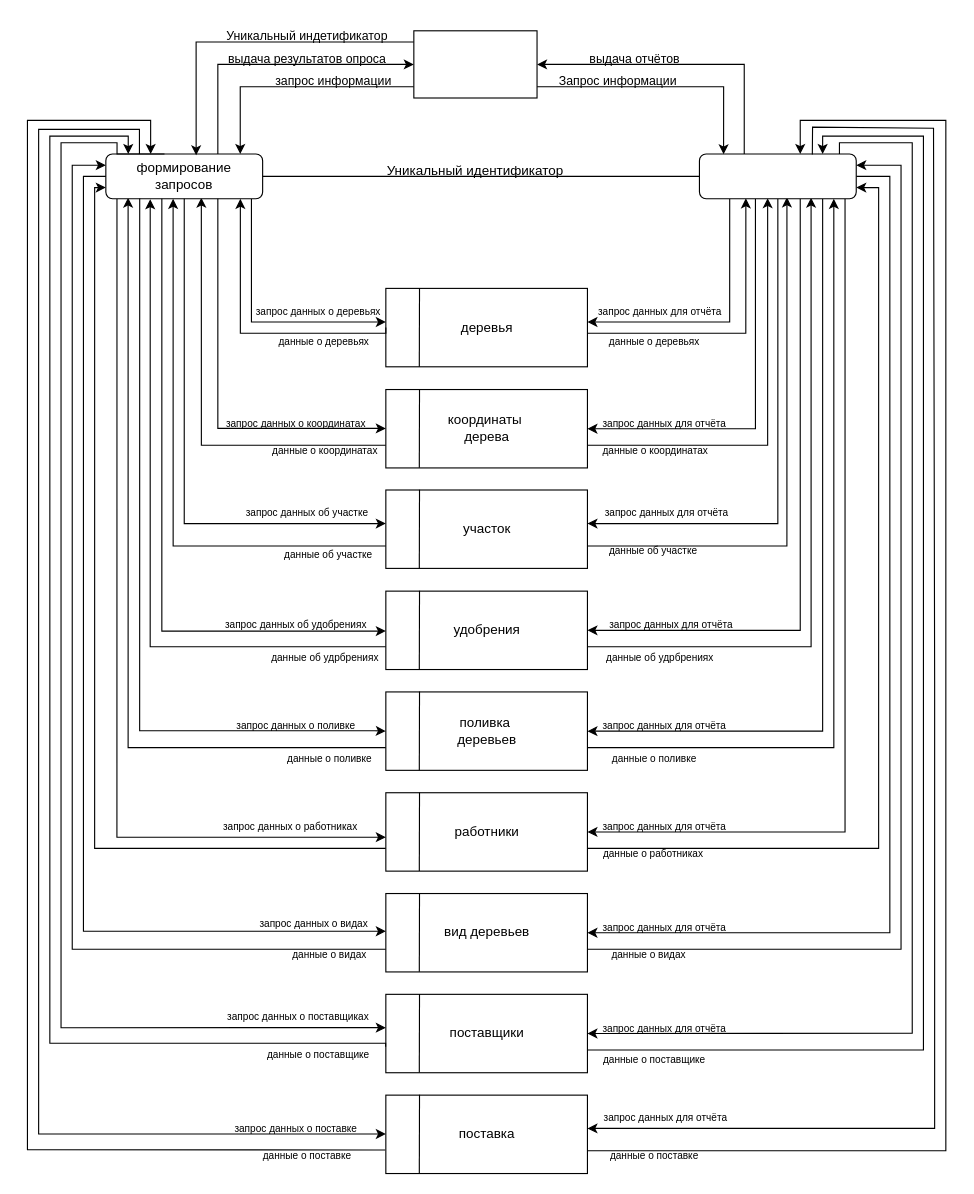
Image size: 974x1194. Some labels were removed from this diagram. The centre of each missing label's shape, as x and y in pixels:
"администраторы и сотрудники АС" belongs at point 475,64.
"формирование отчётов" belongs at point 777,176.
